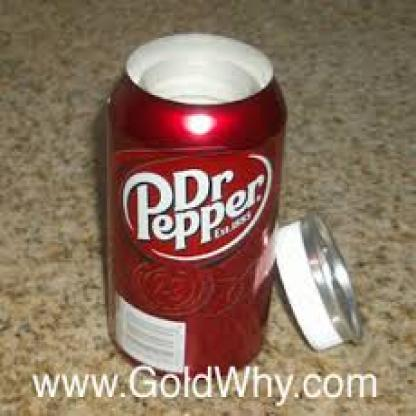Aerosols: (98, 26, 304, 364)
